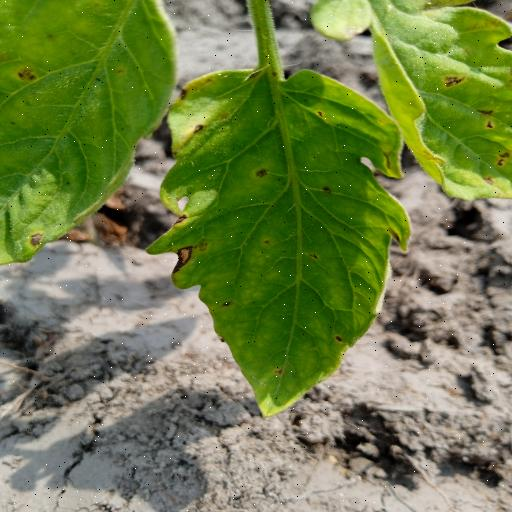Tomato_Brown_Spots: (158, 60, 412, 418), (0, 0, 181, 267), (366, 0, 512, 201)
